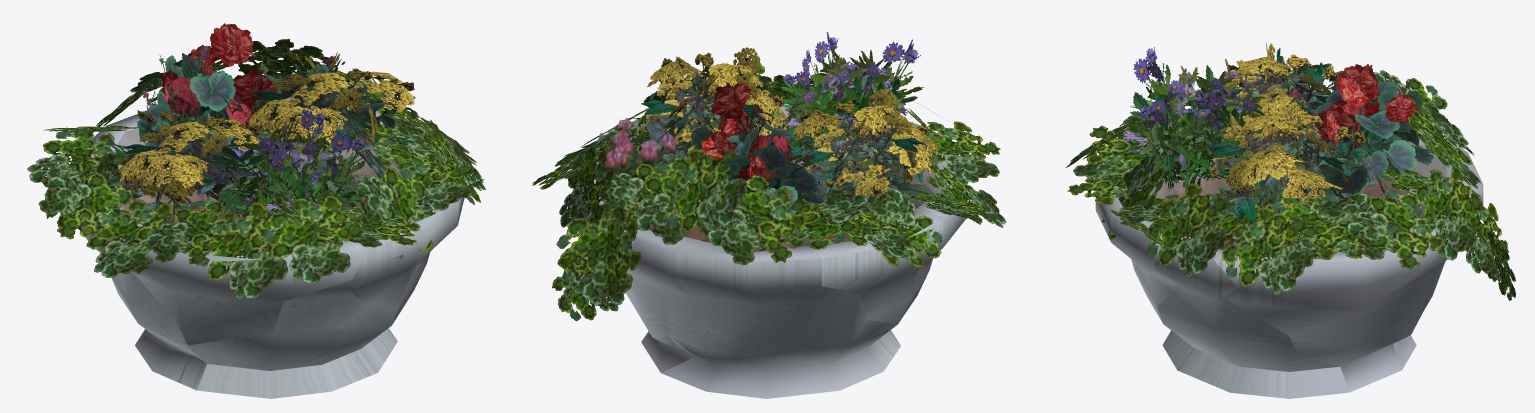
The model's file is PotPlantMixEFBrk.fbx.
3 renders of one model, left to right at view 1: azimuth 30°, elevation 25°; view 2: azimuth 150°, elevation 25°; view 3: azimuth 270°, elevation 25°, orthographic. The views are drawn at different scales.
Visible parts, largest first — view 1: myk_obj_hh_potplant_mixEF_brk_001_Mesh, myk_obj_hh_potplant_mixEF_brk_026_Mesh, myk_obj_hh_potplant_mixEF_brk_024_Mesh, myk_obj_hh_potplant_mixEF_brk_018_Mesh, myk_obj_hh_potplant_mixEF_brk_025_Mesh, myk_obj_hh_potplant_mixEF_brk_020_Mesh, myk_obj_hh_potplant_mixEF_brk_022_Mesh, myk_obj_hh_potplant_mixEF_brk_002_Mesh, myk_obj_hh_potplant_mixEF_brk_014_Mesh, myk_obj_hh_potplant_mixEF_brk_019_Mesh, myk_obj_hh_potplant_mixEF_brk_017_Mesh, myk_obj_hh_potplant_mixEF_brk_023_Mesh (+3 smaller); view 2: myk_obj_hh_potplant_mixEF_brk_017_Mesh, myk_obj_hh_potplant_mixEF_brk_025_Mesh, myk_obj_hh_potplant_mixEF_brk_026_Mesh, myk_obj_hh_potplant_mixEF_brk_023_Mesh, myk_obj_hh_potplant_mixEF_brk_022_Mesh, myk_obj_hh_potplant_mixEF_brk_024_Mesh, myk_obj_hh_potplant_mixEF_brk_001_Mesh, myk_obj_hh_potplant_mixEF_brk_021_Mesh, myk_obj_hh_potplant_mixEF_brk_015_Mesh, myk_obj_hh_potplant_mixEF_brk_018_Mesh, myk_obj_hh_potplant_mixEF_brk_002_Mesh; view 3: myk_obj_hh_potplant_mixEF_brk_024_Mesh, myk_obj_hh_potplant_mixEF_brk_015_Mesh, myk_obj_hh_potplant_mixEF_brk_001_Mesh, myk_obj_hh_potplant_mixEF_brk_023_Mesh, myk_obj_hh_potplant_mixEF_brk_025_Mesh, myk_obj_hh_potplant_mixEF_brk_016_Mesh, myk_obj_hh_potplant_mixEF_brk_002_Mesh, myk_obj_hh_potplant_mixEF_brk_014_Mesh, myk_obj_hh_potplant_mixEF_brk_026_Mesh, myk_obj_hh_potplant_mixEF_brk_019_Mesh, myk_obj_hh_potplant_mixEF_brk_017_Mesh, myk_obj_hh_potplant_mixEF_brk_022_Mesh (+1 smaller).
Part boxes in pixels (bbox=[...]): myk_obj_hh_potplant_mixEF_brk_001_Mesh: bbox=[196, 109, 420, 298]; myk_obj_hh_potplant_mixEF_brk_026_Mesh: bbox=[86, 105, 292, 277]; myk_obj_hh_potplant_mixEF_brk_024_Mesh: bbox=[248, 50, 476, 195]; myk_obj_hh_potplant_mixEF_brk_018_Mesh: bbox=[92, 223, 366, 345]; myk_obj_hh_potplant_mixEF_brk_025_Mesh: bbox=[95, 23, 302, 183]; myk_obj_hh_potplant_mixEF_brk_020_Mesh: bbox=[188, 279, 397, 370]; myk_obj_hh_potplant_mixEF_brk_022_Mesh: bbox=[27, 126, 137, 239]; myk_obj_hh_potplant_mixEF_brk_002_Mesh: bbox=[355, 119, 485, 258]; myk_obj_hh_potplant_mixEF_brk_014_Mesh: bbox=[196, 328, 397, 398]; myk_obj_hh_potplant_mixEF_brk_019_Mesh: bbox=[341, 200, 457, 307]; myk_obj_hh_potplant_mixEF_brk_017_Mesh: bbox=[90, 110, 243, 390]; myk_obj_hh_potplant_mixEF_brk_023_Mesh: bbox=[238, 39, 419, 119]; myk_obj_hh_potplant_mixEF_brk_017_Mesh: bbox=[632, 233, 900, 398]; myk_obj_hh_potplant_mixEF_brk_025_Mesh: bbox=[601, 82, 831, 265]; myk_obj_hh_potplant_mixEF_brk_026_Mesh: bbox=[777, 88, 1006, 227]; myk_obj_hh_potplant_mixEF_brk_023_Mesh: bbox=[532, 118, 689, 321]; myk_obj_hh_potplant_mixEF_brk_022_Mesh: bbox=[779, 188, 1000, 267]; myk_obj_hh_potplant_mixEF_brk_024_Mesh: bbox=[580, 47, 791, 164]; myk_obj_hh_potplant_mixEF_brk_001_Mesh: bbox=[781, 32, 958, 171]; myk_obj_hh_potplant_mixEF_brk_021_Mesh: bbox=[809, 214, 942, 324]; myk_obj_hh_potplant_mixEF_brk_015_Mesh: bbox=[575, 119, 694, 372]; myk_obj_hh_potplant_mixEF_brk_018_Mesh: bbox=[887, 116, 967, 291]; myk_obj_hh_potplant_mixEF_brk_002_Mesh: bbox=[643, 60, 814, 107]; myk_obj_hh_potplant_mixEF_brk_024_Mesh: bbox=[1205, 99, 1372, 294]; myk_obj_hh_potplant_mixEF_brk_015_Mesh: bbox=[1214, 209, 1464, 392]; myk_obj_hh_potplant_mixEF_brk_001_Mesh: bbox=[1065, 47, 1280, 205]; myk_obj_hh_potplant_mixEF_brk_023_Mesh: bbox=[1301, 157, 1515, 300]; myk_obj_hh_potplant_mixEF_brk_025_Mesh: bbox=[1274, 64, 1480, 206]; myk_obj_hh_potplant_mixEF_brk_016_Mesh: bbox=[1154, 233, 1339, 371]; myk_obj_hh_potplant_mixEF_brk_002_Mesh: bbox=[1102, 152, 1228, 277]; myk_obj_hh_potplant_mixEF_brk_014_Mesh: bbox=[1162, 330, 1348, 398]; myk_obj_hh_potplant_mixEF_brk_026_Mesh: bbox=[1130, 43, 1345, 158]; myk_obj_hh_potplant_mixEF_brk_019_Mesh: bbox=[1095, 180, 1176, 306]; myk_obj_hh_potplant_mixEF_brk_017_Mesh: bbox=[1362, 131, 1483, 369]; myk_obj_hh_potplant_mixEF_brk_022_Mesh: bbox=[1287, 63, 1447, 119].
Size of the model in its own units: 3.38 by 2.18 by 3.25.
